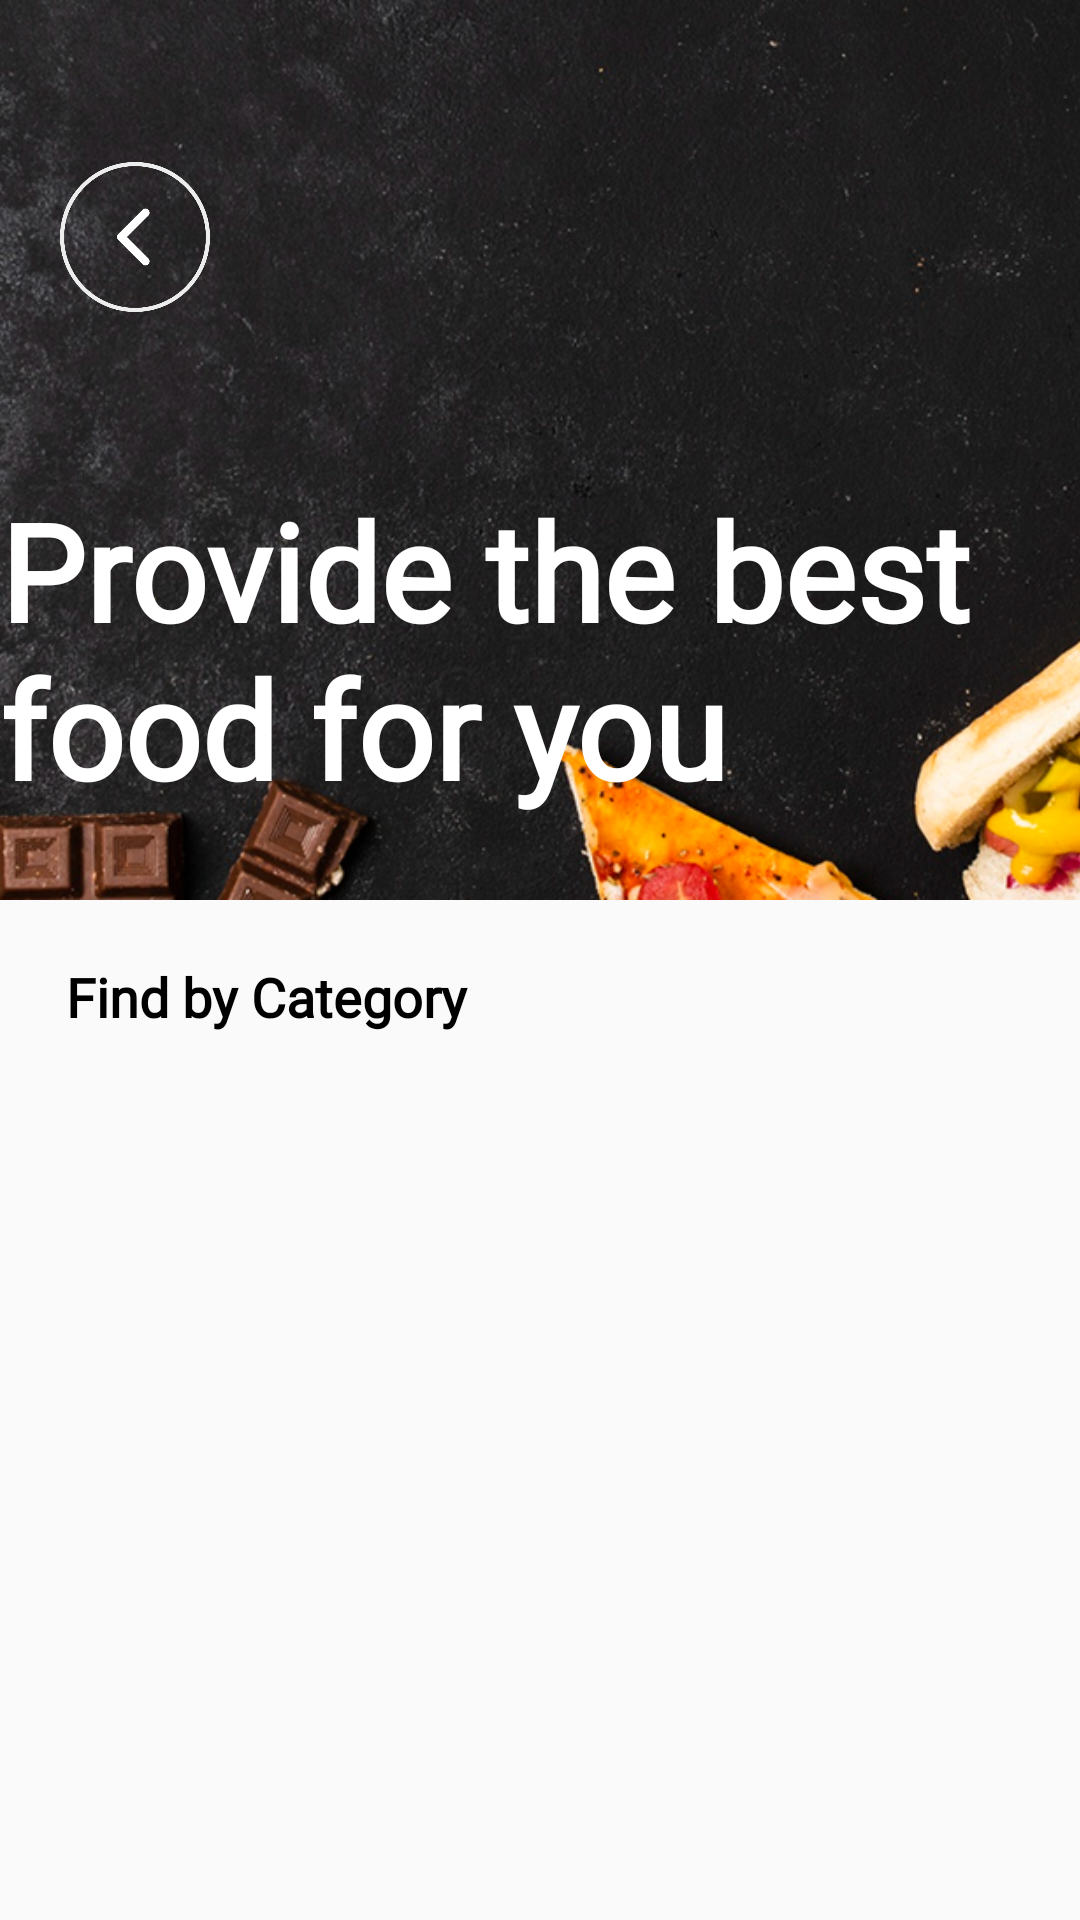

Locate icon controls on the screen. Image size 1080 × 1920, boxes as (x1, y1, x2, y2).
back: (60, 162, 210, 312)
